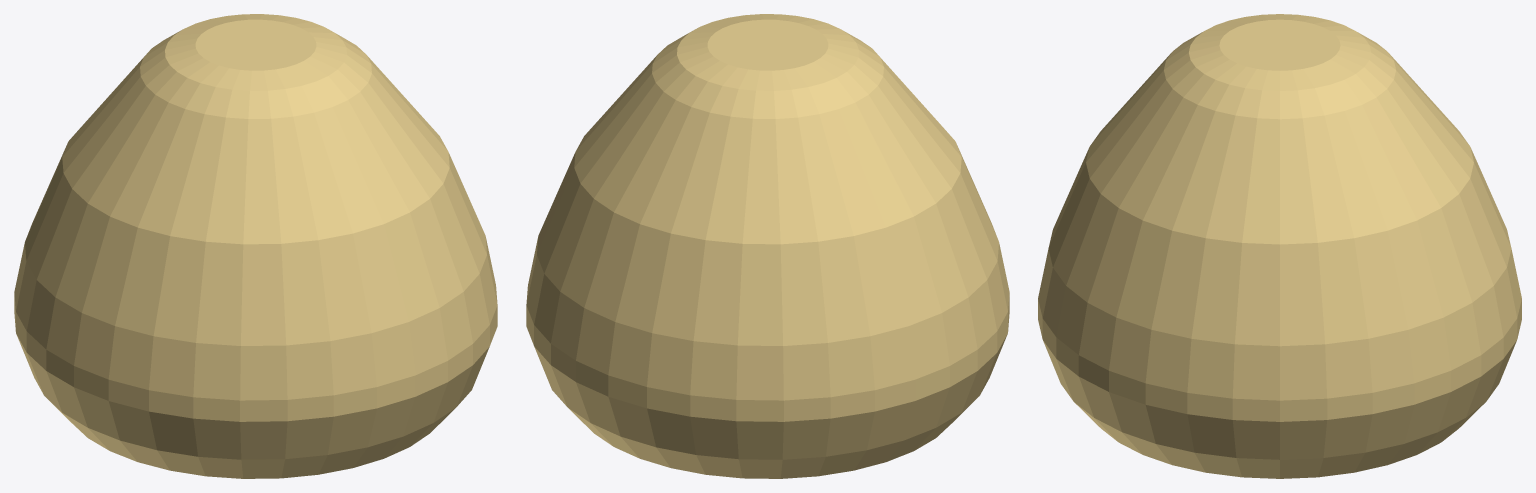
The model's file is egg.fbx.
The picture shows the model from 3 angles, left to right: view 1: azimuth 30°, elevation 25°; view 2: azimuth 150°, elevation 25°; view 3: azimuth 270°, elevation 25°; orthographic projection.
Parts seen in each view (by area): view 1: egg; view 2: egg; view 3: egg.
Boxes of the visible parts, box(x1,y1,x2,y2) form: egg: box(14, 14, 497, 478); egg: box(526, 14, 1009, 478); egg: box(1038, 14, 1521, 478).
Bounding box in the file's own units: 36.54 × 33.95 × 36.54.
